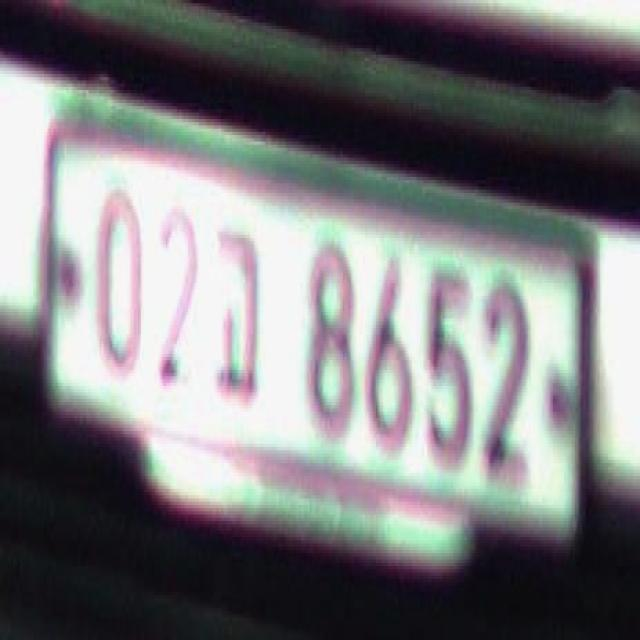illegal_plate: (39, 102, 596, 569)
